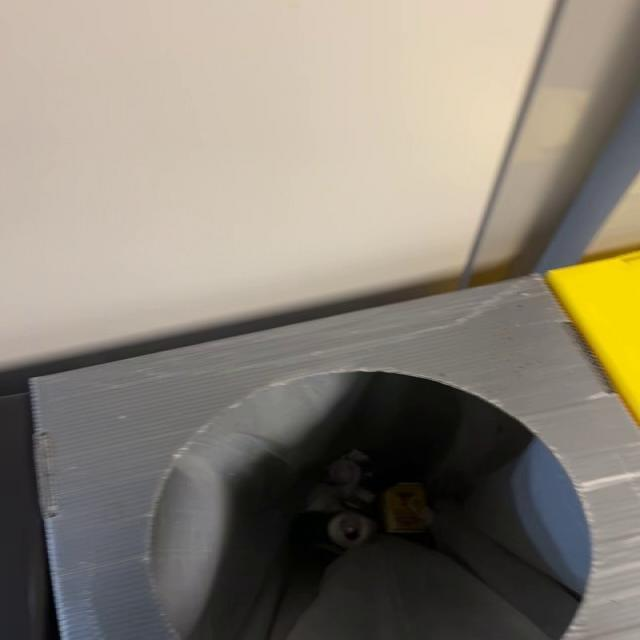Bin: (32, 276, 639, 640)
Metal: (291, 512, 376, 554)
